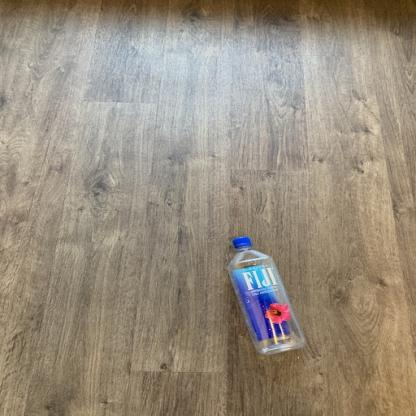trash: (224, 238, 306, 356)
